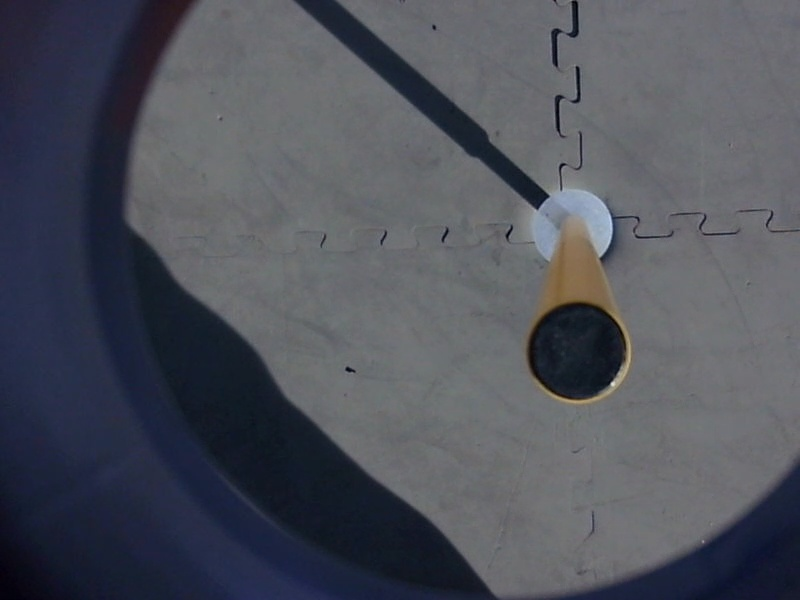tip: (515, 294, 637, 414)
